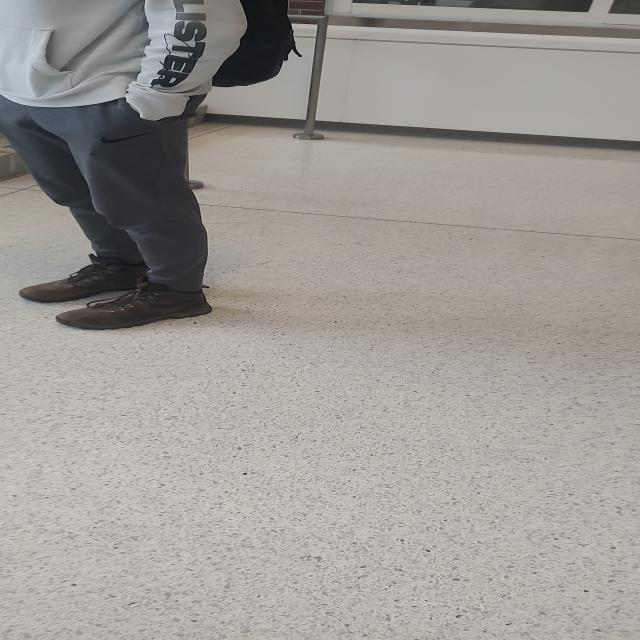Boots: (51, 276, 217, 334), (13, 257, 153, 306)
